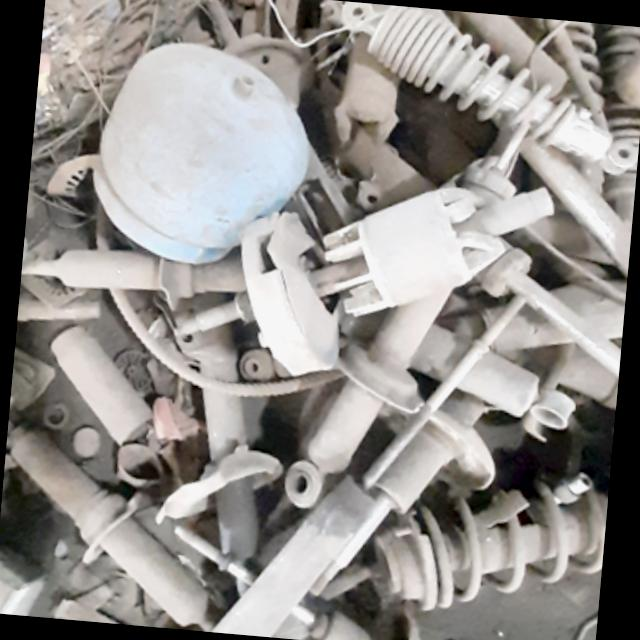Shock Absorber: (333, 0, 640, 187), (363, 465, 606, 618)
